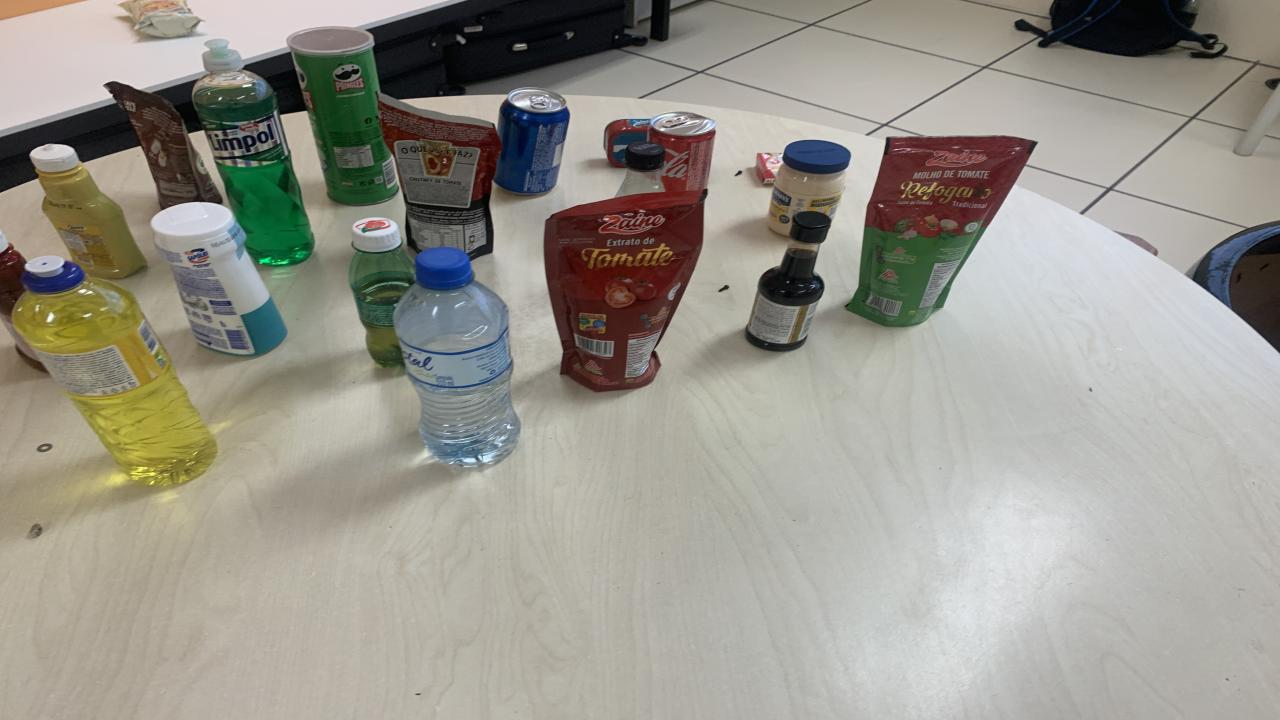Cleaner-Cleanup_Items: (150, 202, 288, 356)
Coffee-Pantry_Items: (105, 82, 222, 208)
Coke-Drinks: (648, 112, 715, 191)
Detergent-Cleanup_Items: (12, 257, 218, 486), (192, 39, 315, 266)
English_Sauce-Pantry_Items: (745, 212, 830, 351)
Guarana-Drinks: (350, 218, 415, 368)
Ketchup-Pantry_Items: (0, 231, 45, 371)
Mayonnaise-Pantry_Items: (768, 139, 850, 234)
Mustard-Pantry_Items: (30, 144, 148, 278)
Pringles-Snacks: (288, 26, 398, 204)
Soap-Cleanup_Items: (755, 152, 782, 184)
Soda-Drinks: (615, 141, 665, 197)
Tomato_Sauce-Pantry_Items: (848, 137, 1035, 326), (545, 189, 708, 392), (378, 94, 500, 259)
Tonic-Drinks: (495, 88, 570, 195)
Tuna_Can-Pantry_Items: (602, 118, 650, 167)
Water_Bottle-Drinks: (392, 248, 520, 467)
